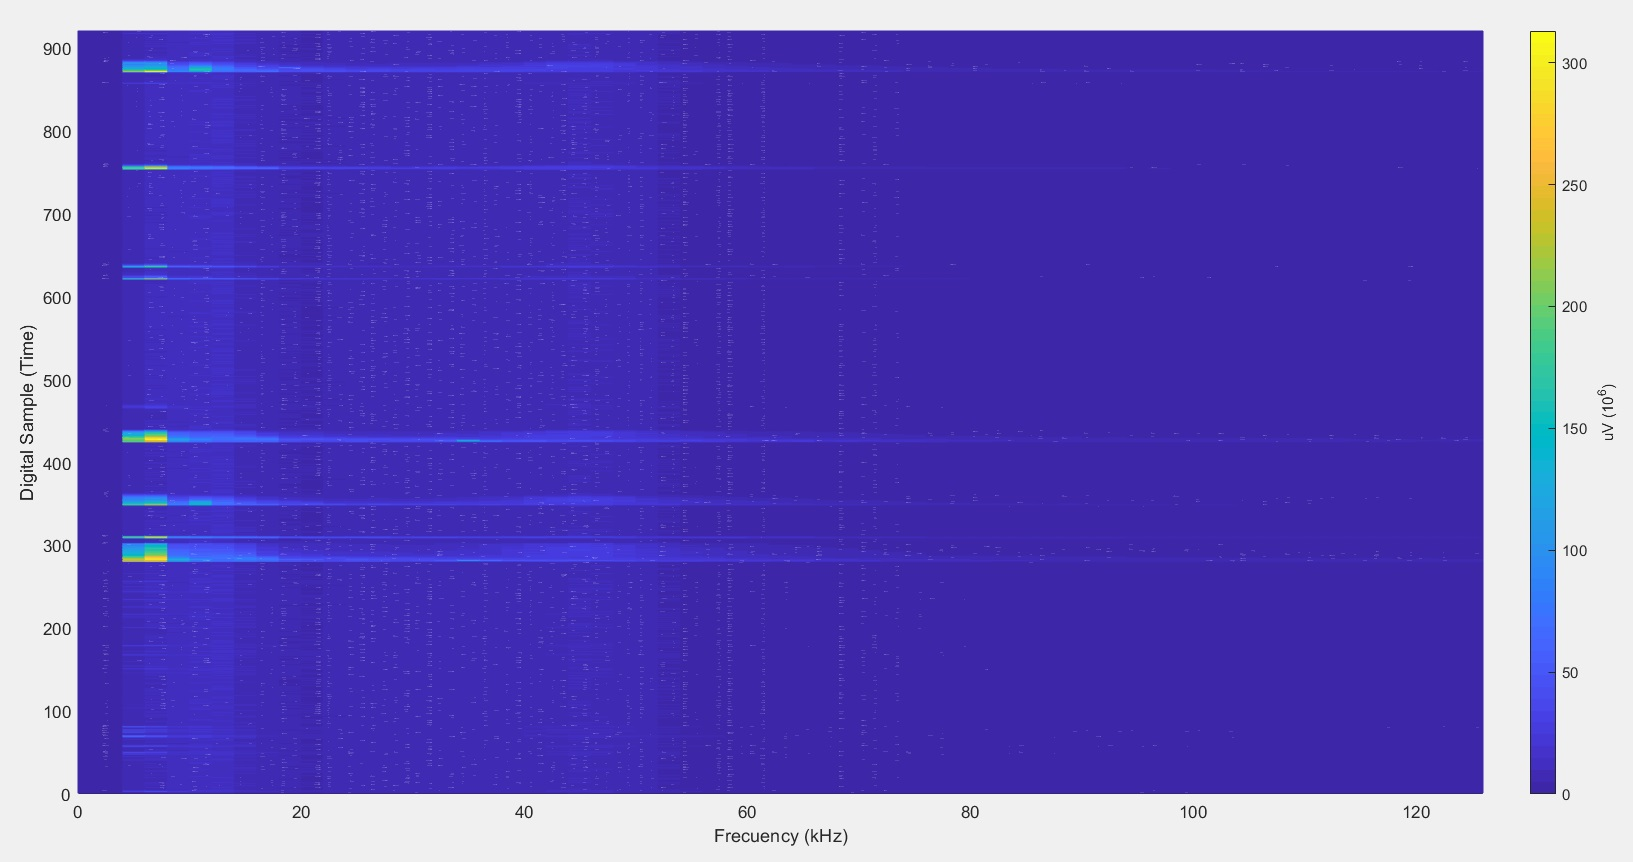leak: (123, 482, 233, 518)
